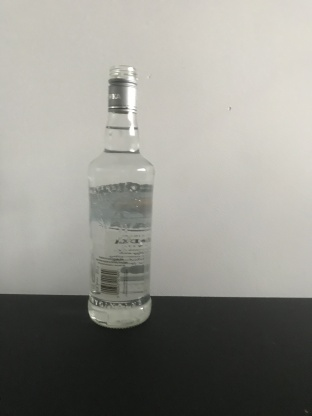nakretka: (106, 64, 139, 115)
